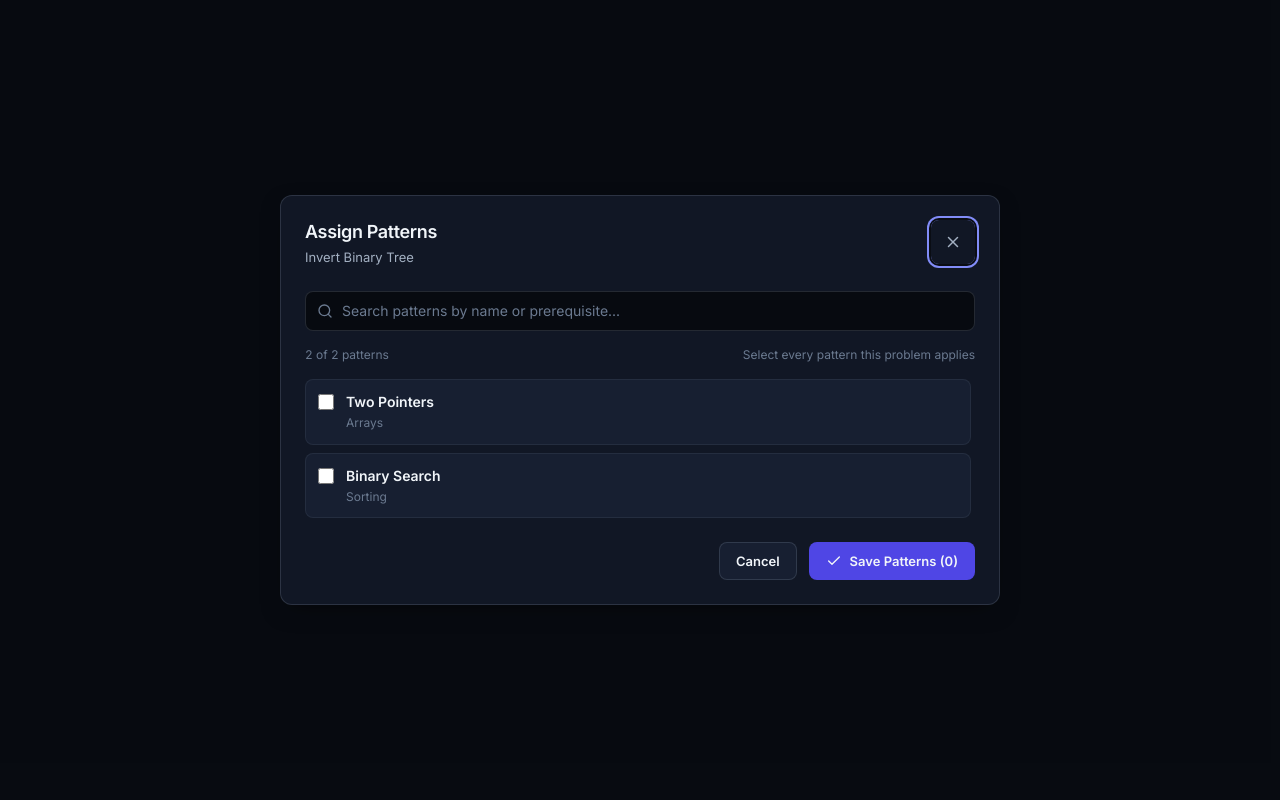
Scenario: PatternPickerModal component › filters by search and offers a clear action when nothing matches
The width and height of the screenshot is (1280, 800).
Type "binary" into the field labelled "Search patterns". click: point(640, 311)
box: x1=305 y1=291 x2=975 y2=331
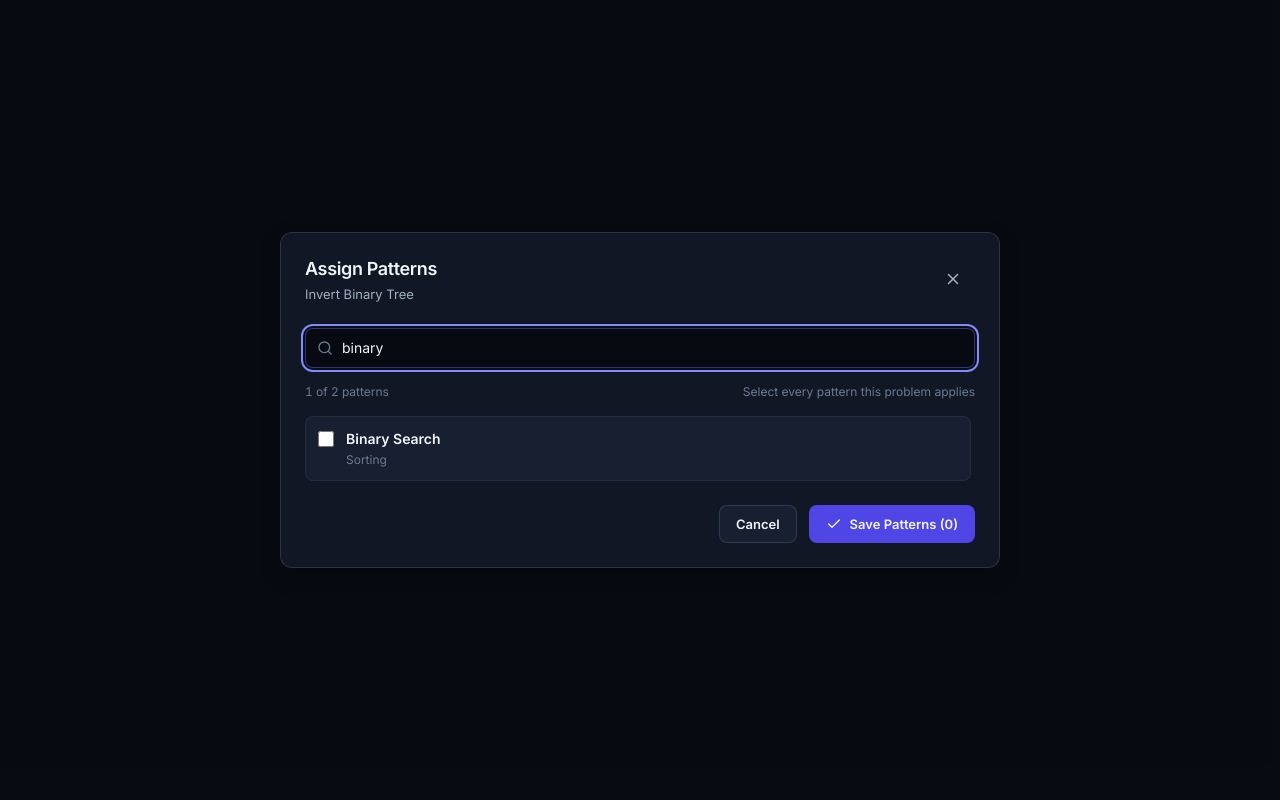
Expected: the checkbox labelled "Binary Search" is shown, x1=318 y1=431 x2=334 y2=447
Result: the label "Two Pointers" is gone
Clear the field named "Search patterns". click: point(640, 348)
box: x1=305 y1=328 x2=975 y2=368
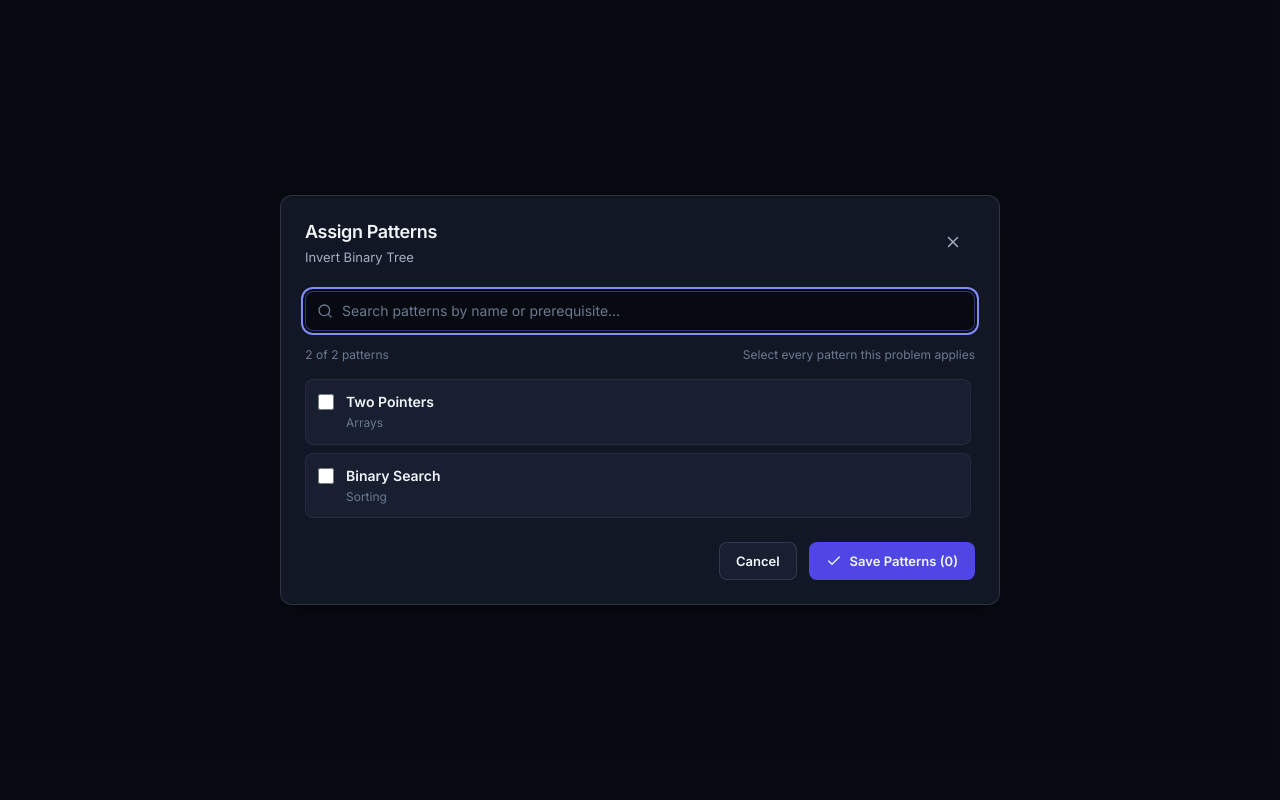
Type "zzzzz" into the field labelled "Search patterns". click: point(640, 311)
box: x1=305 y1=291 x2=975 y2=331
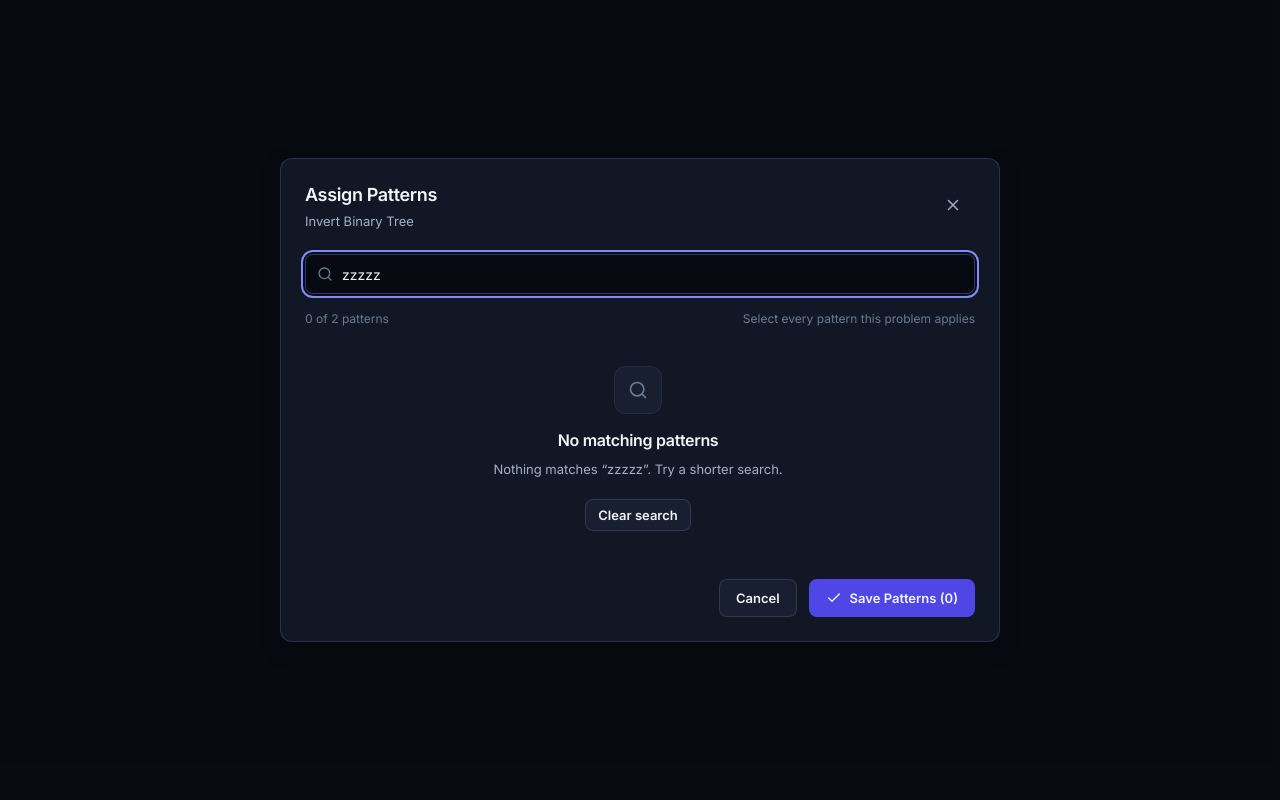
Result: the heading "No matching patterns" is shown at x1=558 y1=430 x2=718 y2=452
Click the button "Clear search". click: point(638, 515)
box: x1=585 y1=499 x2=691 y2=531
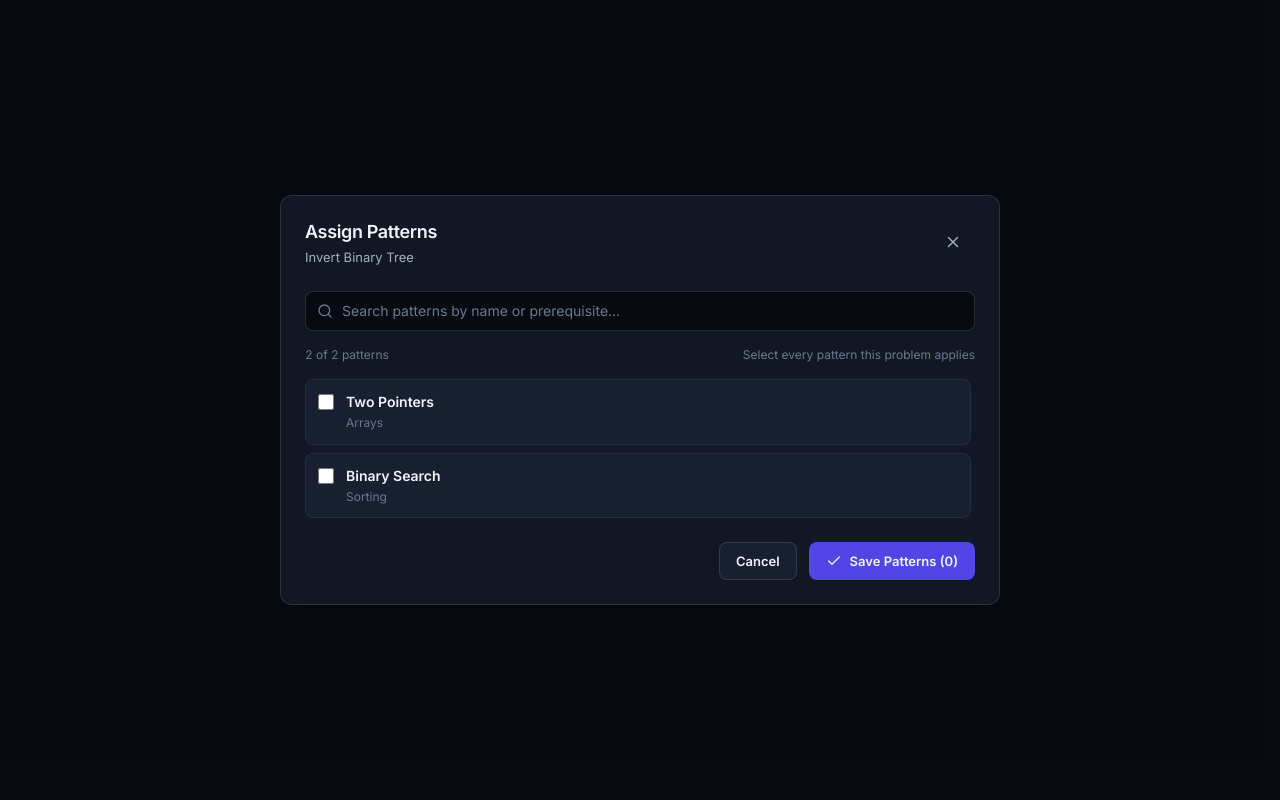
Result: the checkbox labelled "Two Pointers" is shown at x1=318 y1=394 x2=334 y2=410
